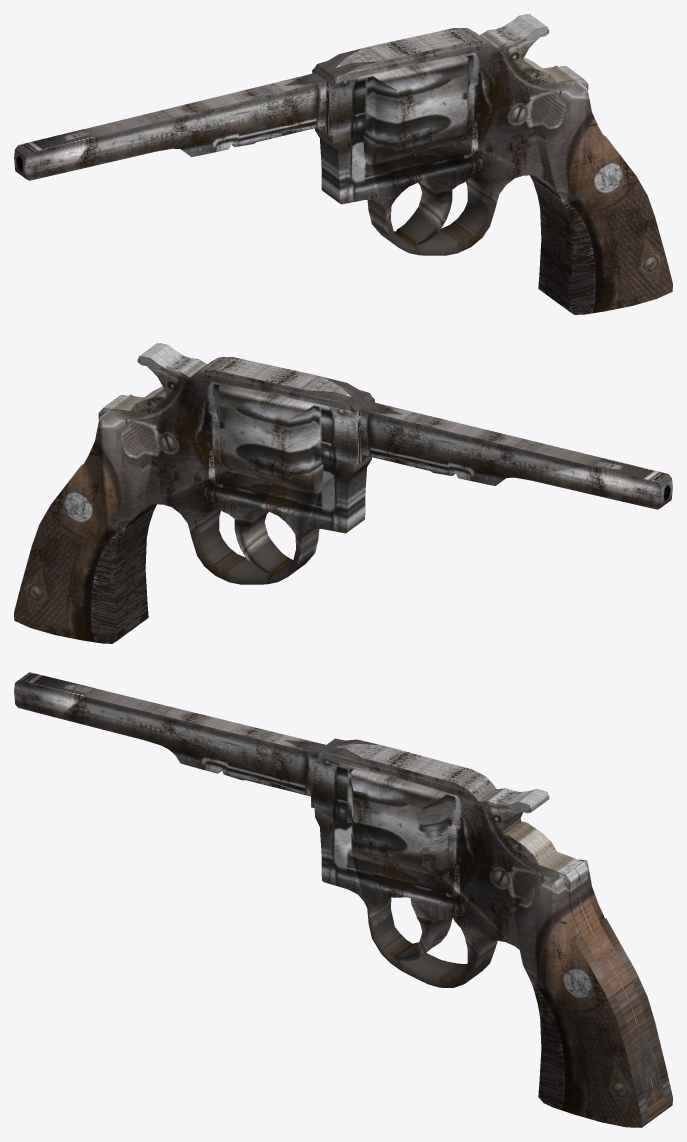
File: revolver.fbx
3 views of the same model, one above another, from view 1: azimuth 30°, elevation 25°; view 2: azimuth 150°, elevation 25°; view 3: azimuth 330°, elevation 25° (orthographic).
Parts seen in each view (by area): view 1: BezierCurve, BezierCurve.001; view 2: BezierCurve, BezierCurve.001; view 3: BezierCurve, BezierCurve.001.
Boxes of the visible parts, <box> form: BezierCurve: <box>312,14,672,314</box>; BezierCurve.001: <box>14,73,326,180</box>; BezierCurve: <box>14,343,374,643</box>; BezierCurve.001: <box>360,402,672,509</box>; BezierCurve: <box>311,738,672,1127</box>; BezierCurve.001: <box>14,672,325,796</box>.
Bounding box in the file's own units: 511 × 230 × 60.77.
1 material, 1 textured.
